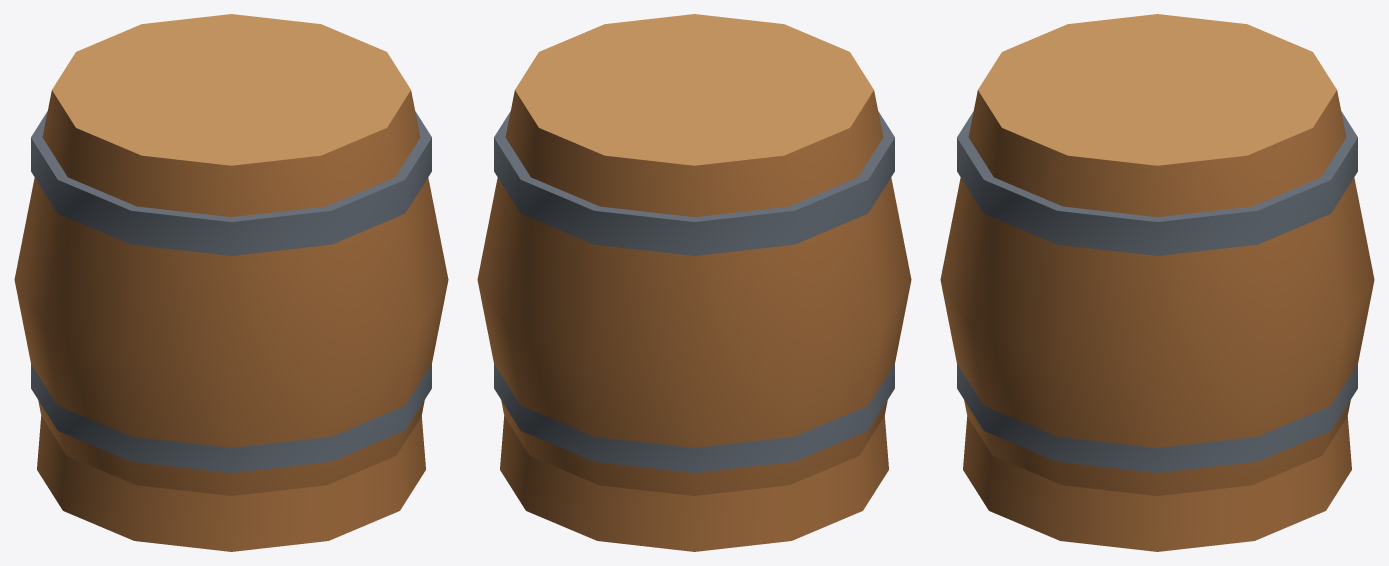
File: barrel.obj
3 renders of one model, left to right at view 1: azimuth 30°, elevation 25°; view 2: azimuth 150°, elevation 25°; view 3: azimuth 270°, elevation 25°, orthographic.
Parts seen in each view (by area): view 1: barrel_wood_mid, barrel_wood_light, barrel_metal; view 2: barrel_wood_mid, barrel_wood_light, barrel_metal; view 3: barrel_wood_mid, barrel_wood_light, barrel_metal.
Boxes of the visible parts, x1,y1,x2,y2 form: barrel_wood_mid: (14,90,448,551); barrel_wood_light: (52,14,410,165); barrel_metal: (31,111,431,472); barrel_wood_mid: (477,90,911,551); barrel_wood_light: (515,14,873,165); barrel_metal: (494,111,894,472); barrel_wood_mid: (940,90,1374,551); barrel_wood_light: (978,14,1336,165); barrel_metal: (957,111,1357,472).
Size of the model in its own units: 0.58 by 0.56 by 0.58.
